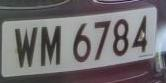4: (130, 13, 151, 56)
6: (68, 18, 94, 63)
7: (91, 16, 113, 63)
8: (111, 14, 132, 60)
M: (39, 21, 66, 73)
W: (12, 23, 40, 74)
